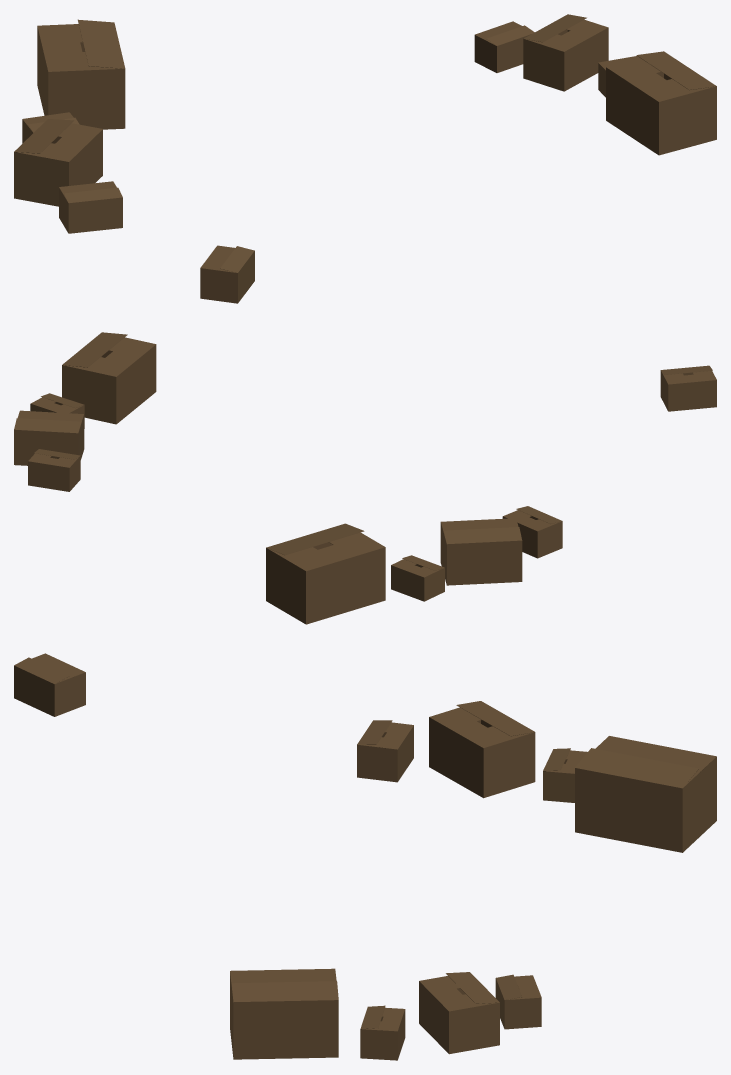
File: Boxes 1.fbx
3 renders of one model, top to bottom at view 1: azimuth 30°, elevation 25°; view 2: azimuth 150°, elevation 25°; view 3: azimuth 270°, elevation 25°, orthographic. The views are drawn at different scales.
Visible parts, largest first — view 1: Packages, Packages.001, Packages.002; view 2: Packages, Packages.001, Packages.002; view 3: Packages, Packages.001, Packages.002.
Boxes of the visible parts, x1=… form: Packages: x1=14, y1=19, x2=125, y2=233; Packages.001: x1=474, y1=14, x2=716, y2=155; Packages.002: x1=200, y1=245, x2=254, y2=303; Packages: x1=266, y1=506, x2=562, y2=624; Packages.001: x1=14, y1=332, x2=156, y2=491; Packages.002: x1=660, y1=365, x2=716, y2=411; Packages: x1=357, y1=701, x2=716, y2=852; Packages.001: x1=230, y1=968, x2=541, y2=1060; Packages.002: x1=14, y1=653, x2=85, y2=716.
Size of the model in its own units: 14.72 by 1.97 by 13.71.
